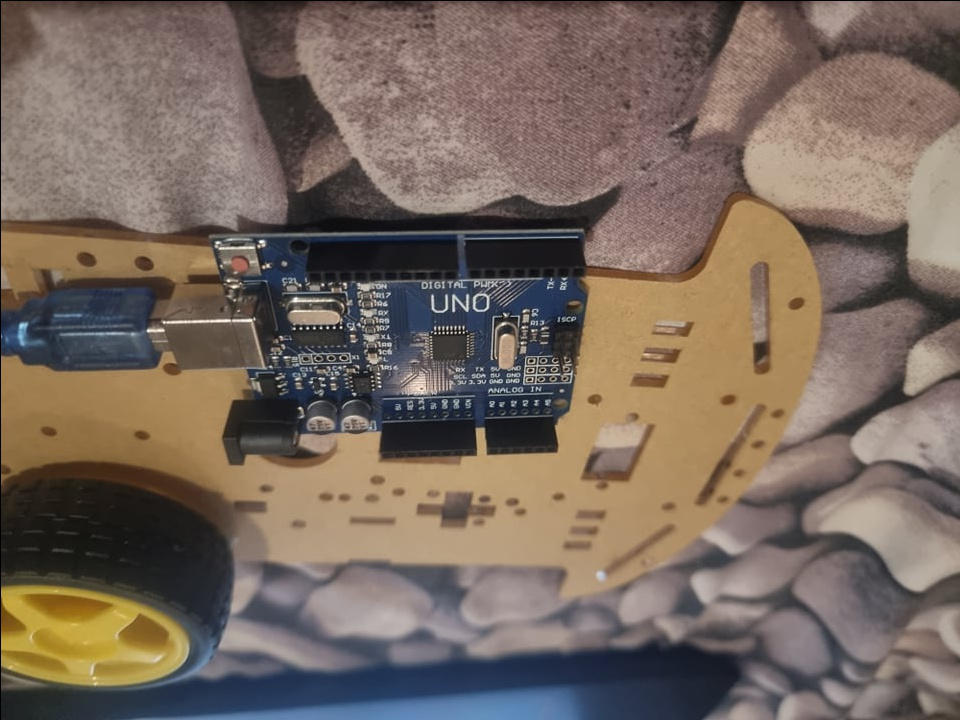UNO R3: (158, 232, 588, 469)
